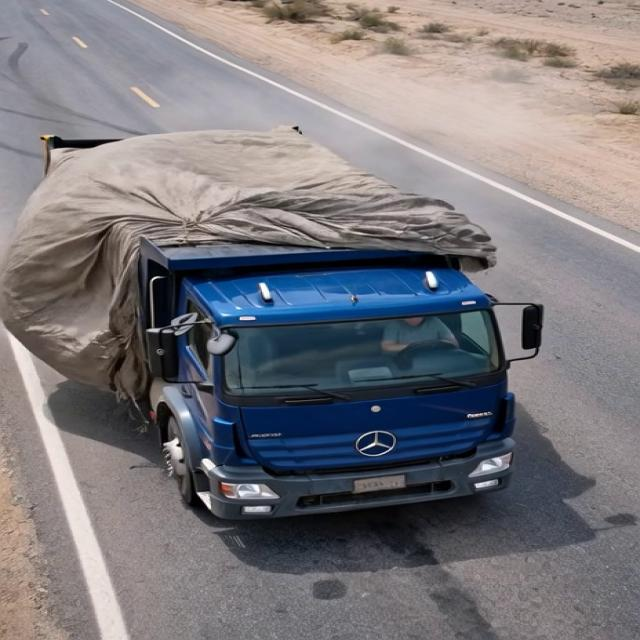trailer: (27, 131, 519, 262)
truck: (20, 106, 555, 526)
